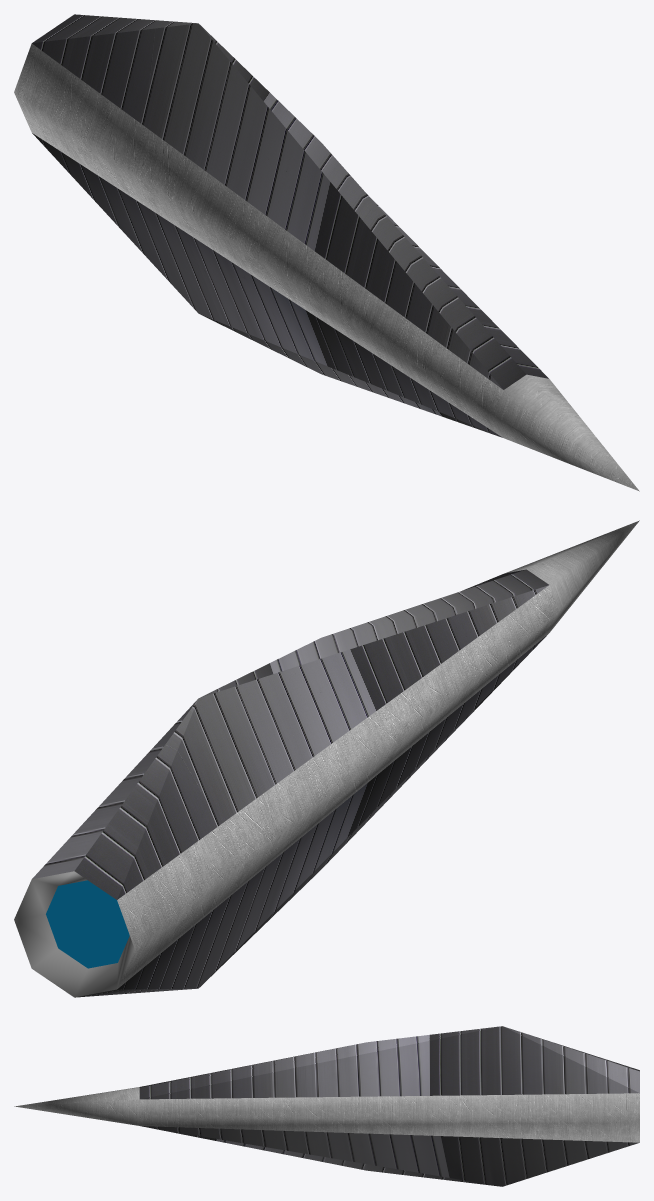
The model's file is missile.obj.
3 renders of one model, top to bottom at view 1: azimuth 30°, elevation 25°; view 2: azimuth 150°, elevation 25°; view 3: azimuth 270°, elevation 25°, orthographic. The views are drawn at different scales.
Parts seen in each view (by area): view 1: Missile_Missile_Metal, Missile_Missile_Metal2; view 2: Missile_Missile_Metal, Missile_Missile_Metal2, Missile_Missile_Exhaust; view 3: Missile_Missile_Metal, Missile_Missile_Metal2.
Part boxes in pixels (bbox=[...]): Missile_Missile_Metal: bbox=[32, 14, 548, 437]; Missile_Missile_Metal2: bbox=[14, 43, 639, 491]; Missile_Missile_Metal: bbox=[32, 569, 548, 997]; Missile_Missile_Metal2: bbox=[14, 520, 639, 997]; Missile_Missile_Exhaust: bbox=[46, 880, 129, 968]; Missile_Missile_Metal: bbox=[139, 1026, 639, 1186]; Missile_Missile_Metal2: bbox=[14, 1087, 639, 1142].
Size of the model in its own units: 0.6163 by 1.42 by 5.
4 materials, 4 textured.
